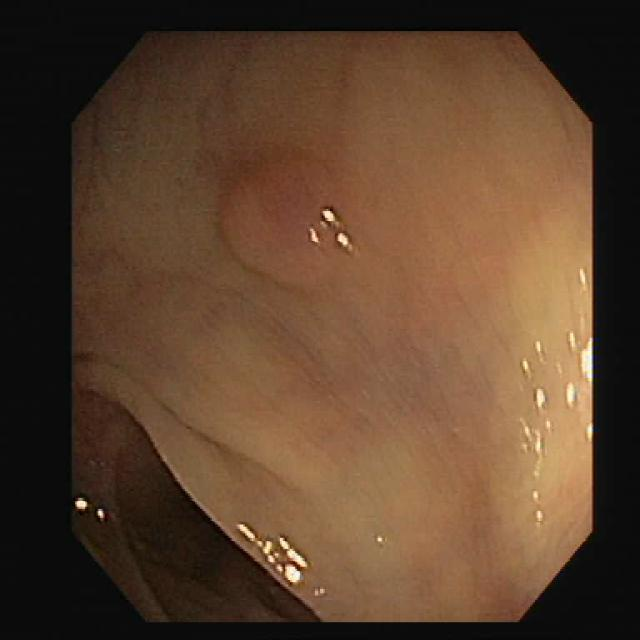tumor: (223, 147, 332, 284)
